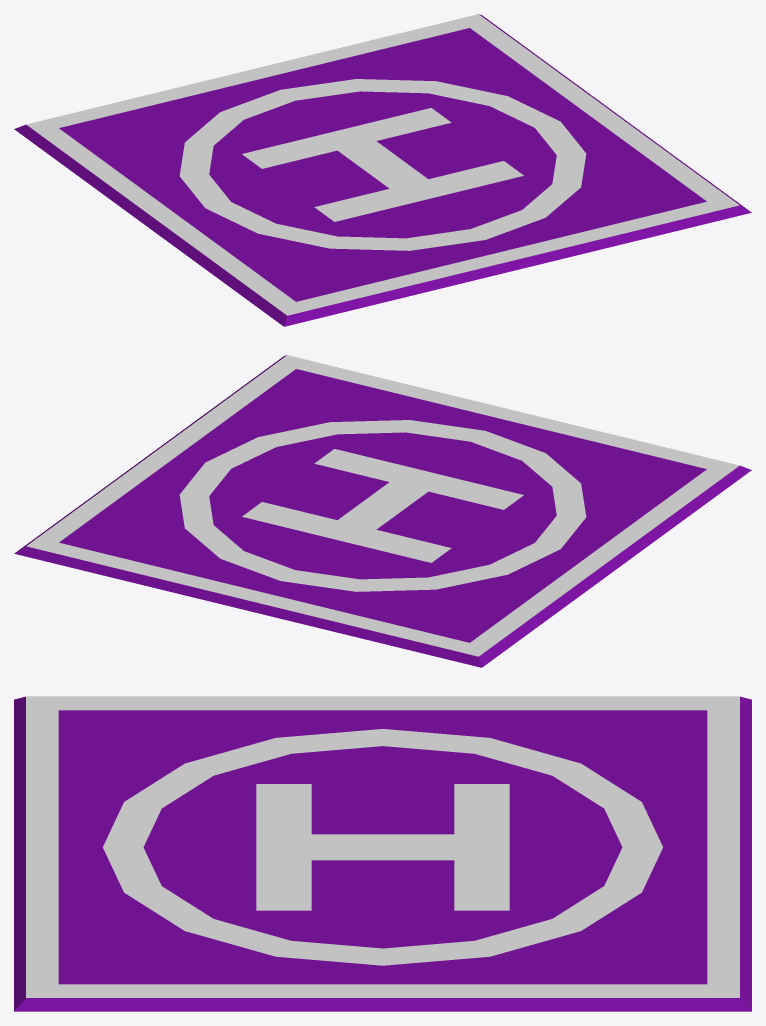
Rendered from HeliLanding_1_E.fbx.
The picture shows the model from 3 angles, top to bottom: view 1: azimuth 30°, elevation 25°; view 2: azimuth 150°, elevation 25°; view 3: azimuth 270°, elevation 25°; orthographic projection. The views are drawn at different scales.
Visible parts, largest first — view 1: HeliLanding_1_E; view 2: HeliLanding_1_E; view 3: HeliLanding_1_E.
Boxes of the visible parts, x1,y1,x2,y2 form: HeliLanding_1_E: [14, 14, 751, 326]; HeliLanding_1_E: [14, 355, 751, 667]; HeliLanding_1_E: [14, 696, 751, 1011].
Size of the model in its own units: 460 by 5.67 by 460.
